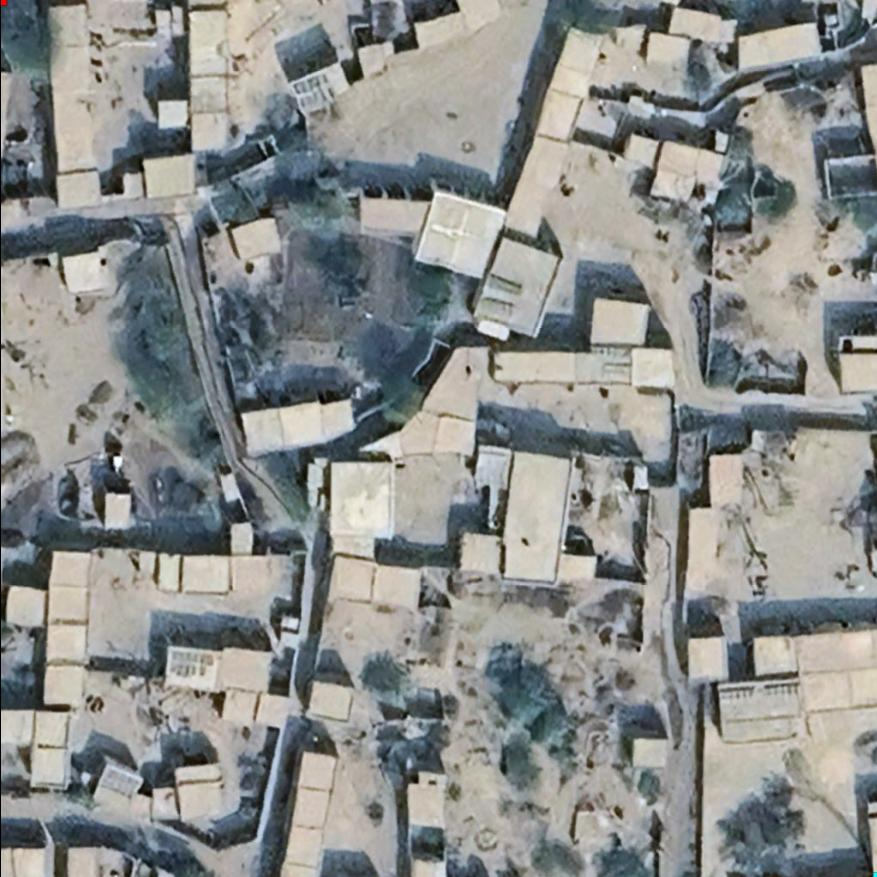Solarpanel: (289, 68, 341, 120), (164, 644, 222, 682), (759, 677, 802, 702), (713, 685, 756, 702)
